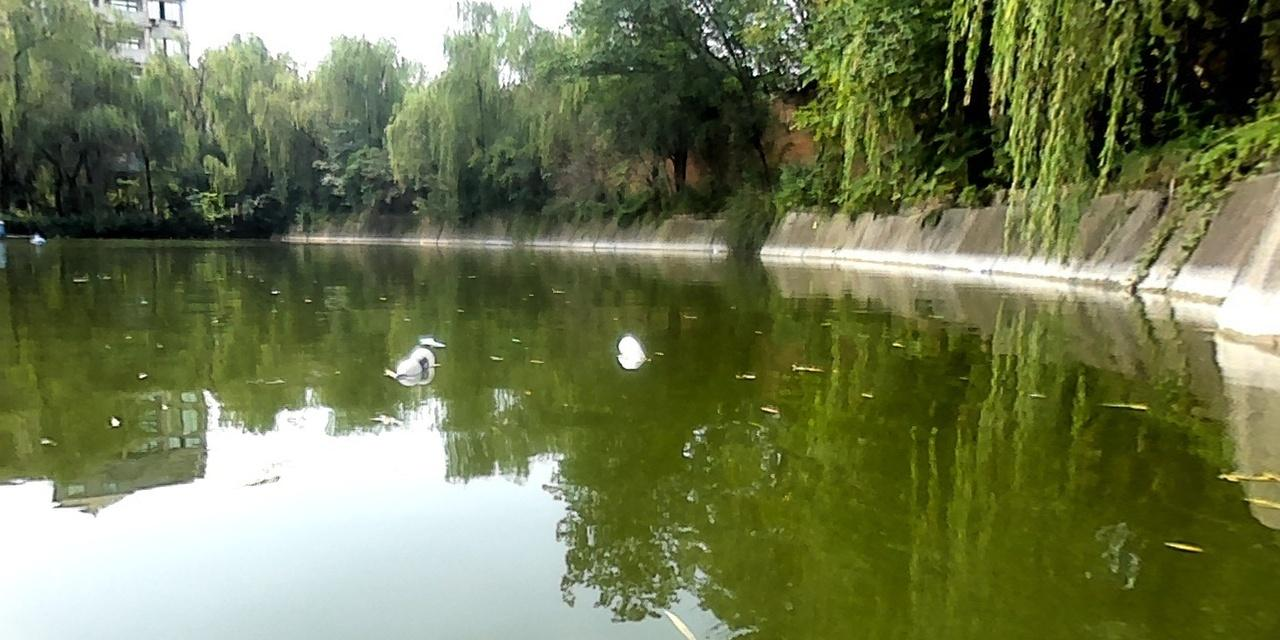bottle: (391, 346, 438, 382), (617, 331, 646, 363)
